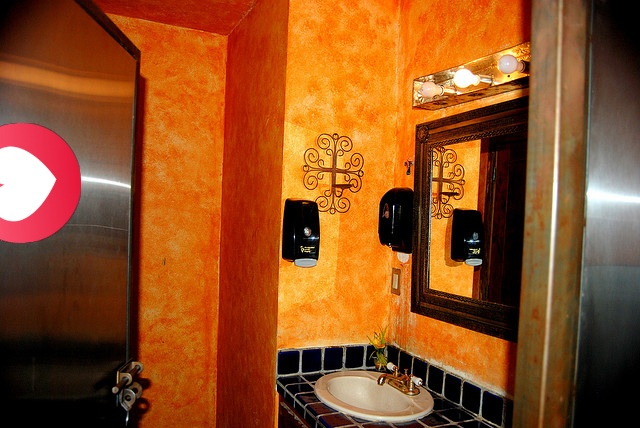love: (0, 123, 81, 243)
